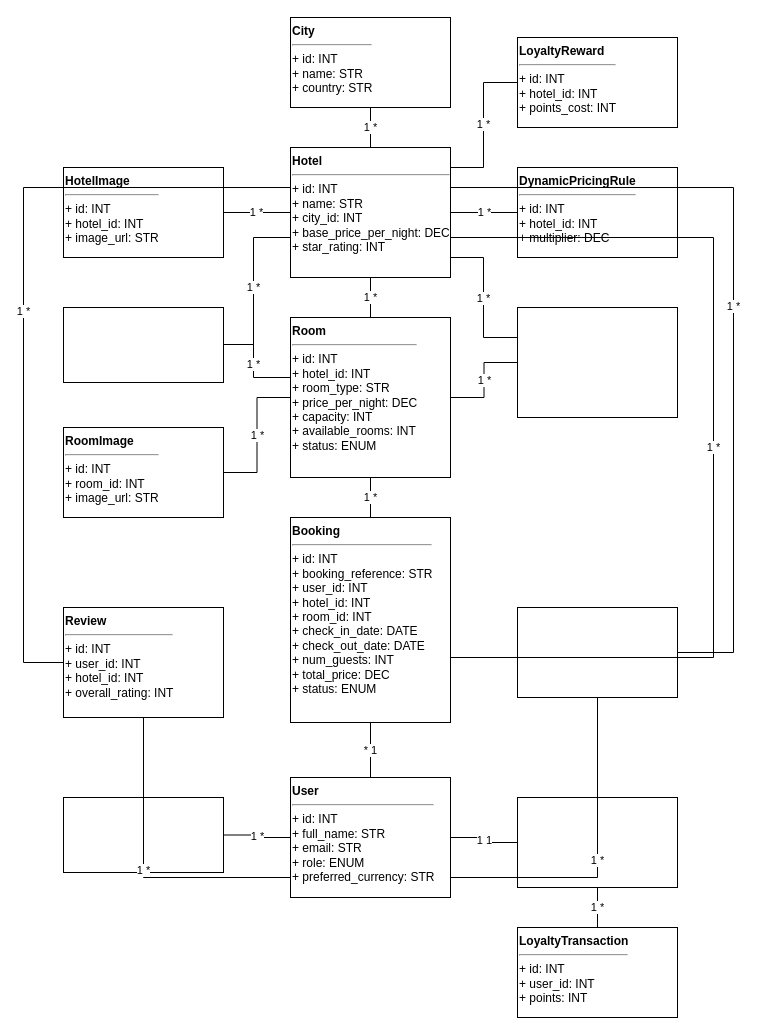
Some shapes in this 757 by 1035 pixel diagram are drawn without their labels. The shapes that lost their labels are listed below. From the top down, each one's centre as x and y in pixels, then its label:
At [143,344]: "Amenity + id: INT + name: STR".
At [597,362]: "FlashDeal + id: INT + hotel_id: INT + room_id: INT + discount_percentage: DEC".
At [597,652]: "Favorite + id: INT + user_id: INT + hotel_id: INT".
At [143,834]: "SavedComparison + id: INT + user_id: INT".
At [597,842]: "UserLoyalty + id: INT + user_id: INT + current_points: INT".
